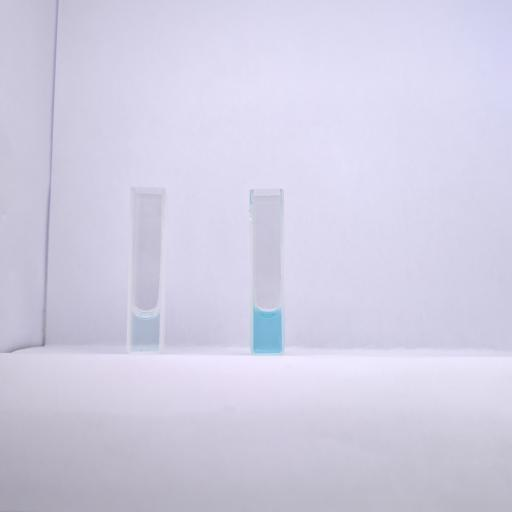cuvette: (125, 184, 168, 356), (248, 186, 286, 357)
liquid: (254, 309, 282, 352), (132, 309, 159, 350)
